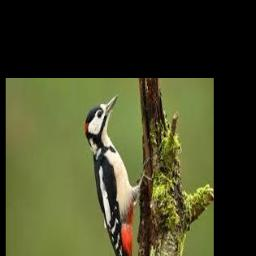Woodpecker: (85, 93, 154, 256)
